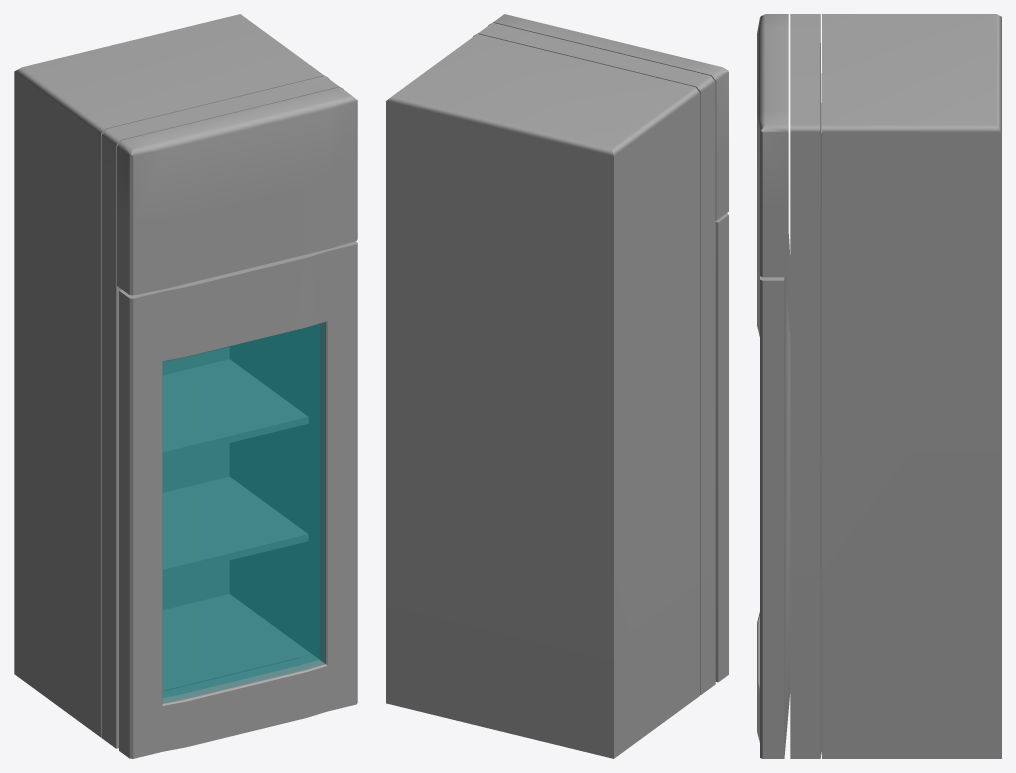
Rendered from ASR_Model_Fridge.fbx.
The picture shows the model from 3 angles, left to right: view 1: azimuth 30°, elevation 25°; view 2: azimuth 150°, elevation 25°; view 3: azimuth 270°, elevation 25°; orthographic projection. The views are drawn at different scales.
Parts seen in each view (by area): view 1: ASR_Model_Fridge; view 2: ASR_Model_Fridge; view 3: ASR_Model_Fridge.
Boxes of the visible parts, left/top/right/bottom form: ASR_Model_Fridge: left=14, top=14, right=357, bottom=758; ASR_Model_Fridge: left=386, top=14, right=728, bottom=758; ASR_Model_Fridge: left=757, top=14, right=1001, bottom=758.
Size of the model in its own units: 9.75 by 24.85 by 8.73.
